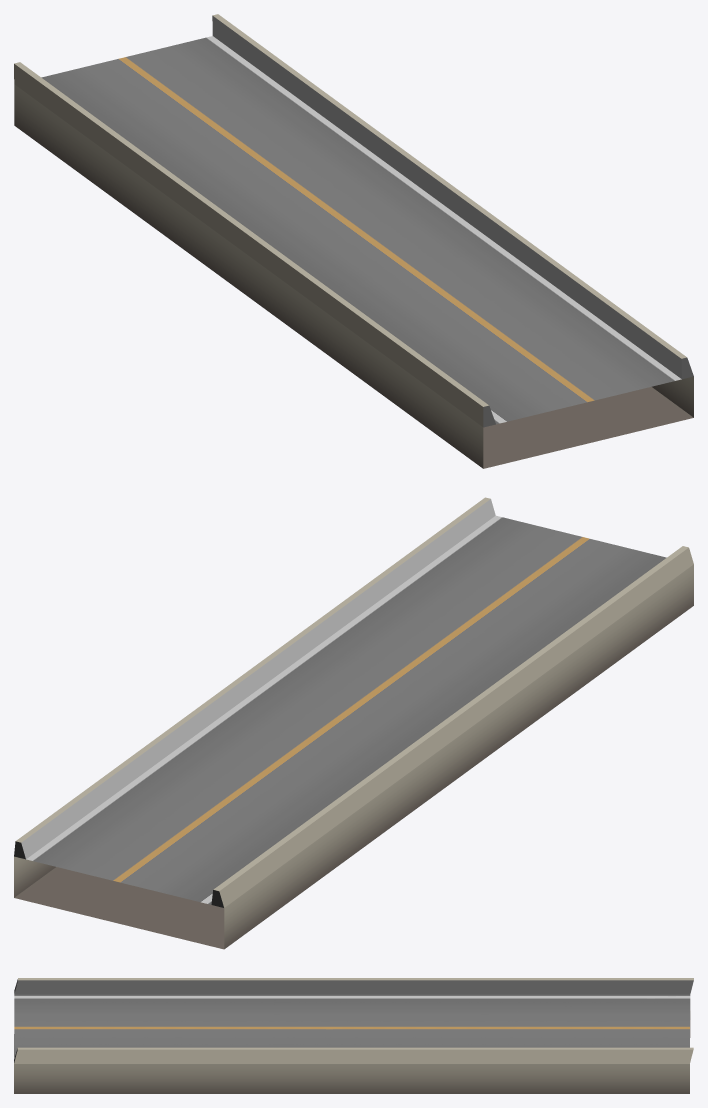
File: SM_City_Roads.003.fbx
3 views of the same model, one above another, from view 1: azimuth 30°, elevation 25°; view 2: azimuth 150°, elevation 25°; view 3: azimuth 270°, elevation 25° (orthographic). The views are drawn at different scales.
Visible parts, largest first — view 1: SM_City_Bridge_02; view 2: SM_City_Bridge_02; view 3: SM_City_Bridge_02.
Part boxes in pixels (x1,y1,x2,y2): SM_City_Bridge_02: (14,14,693,468); SM_City_Bridge_02: (14,497,693,949); SM_City_Bridge_02: (14,978,693,1093).
Size of the model in its own units: 0.6257 by 0.1692 by 2.43.
